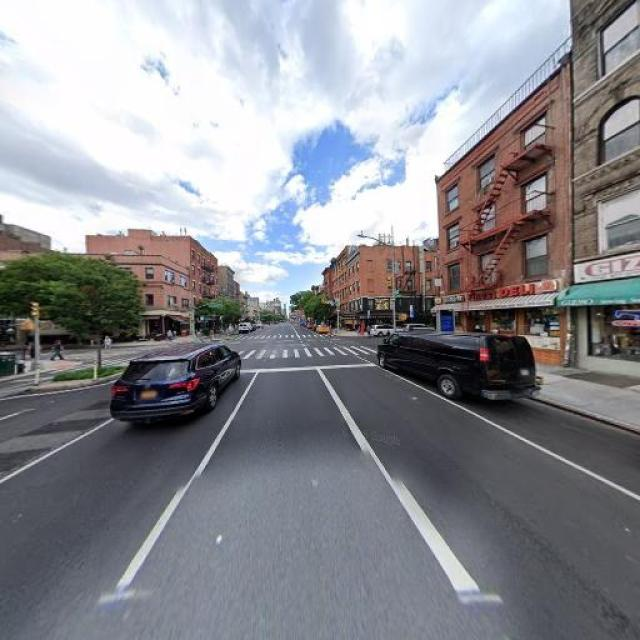Building: (440, 55, 572, 365), (579, 1, 640, 379), (52, 235, 220, 339), (342, 244, 420, 333)
